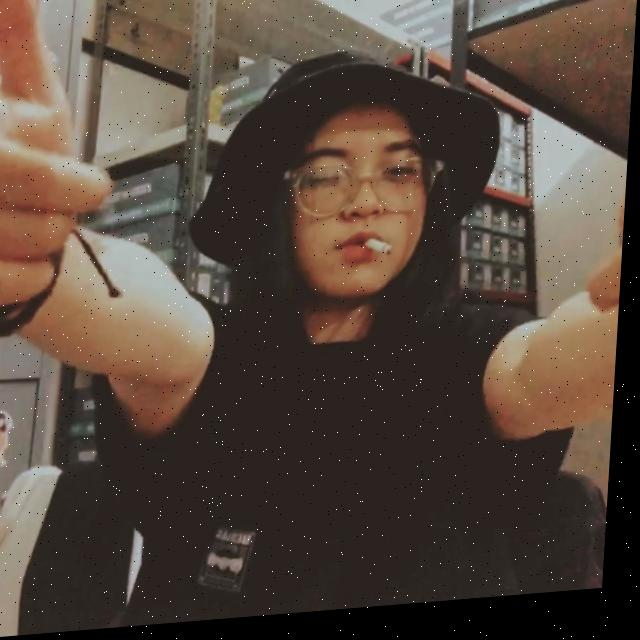cigarette: (367, 243, 397, 264)
